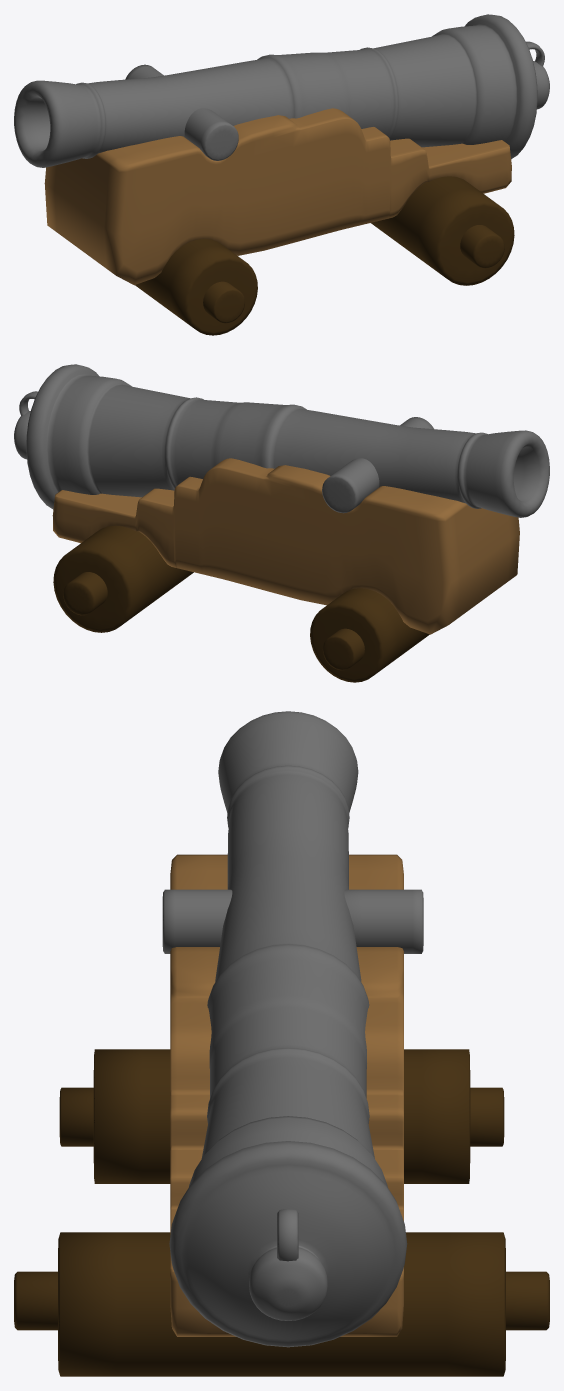
File: Cannon.fbx
The picture shows the model from 3 angles, top to bottom: view 1: azimuth 30°, elevation 25°; view 2: azimuth 150°, elevation 25°; view 3: azimuth 270°, elevation 25°; orthographic projection. The views are drawn at different scales.
Visible parts, largest first — view 1: Cylinder.001; view 2: Cylinder.001; view 3: Cylinder.001.
Boxes of the visible parts, x1=… form: Cylinder.001: x1=14, y1=14, x2=549, y2=335; Cylinder.001: x1=14, y1=364, x2=549, y2=682; Cylinder.001: x1=14, y1=711, x2=549, y2=1376.
Bounding box in the file's own units: 184 × 80.17 × 103.
